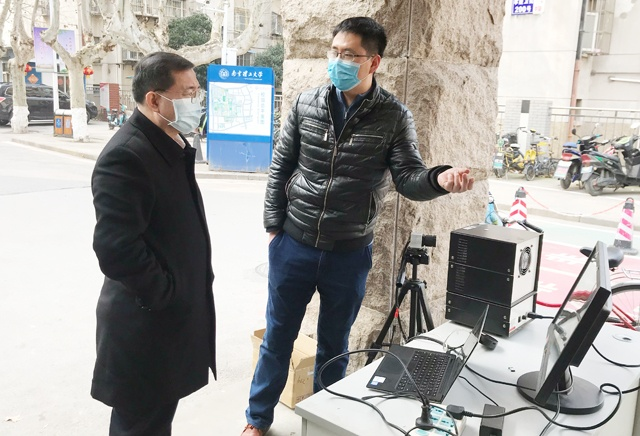correctlyWear: (145, 78, 206, 135), (328, 40, 382, 94)
